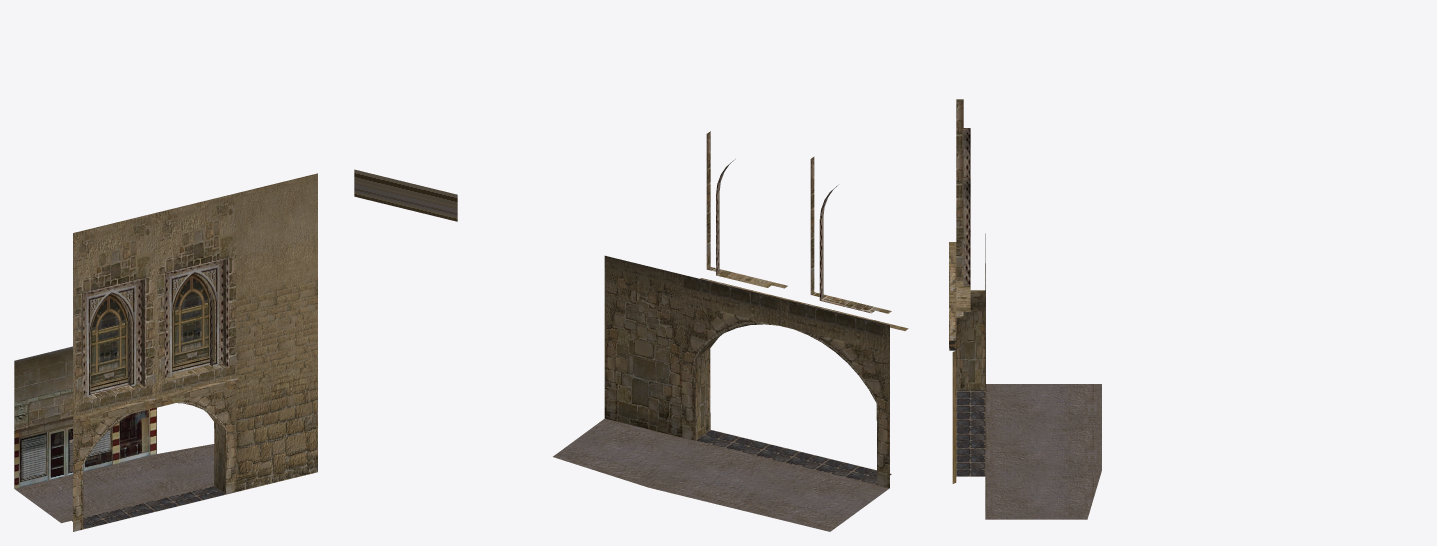
Rendered from M7Z1_CityWall3A4.glb.
3 views of the same model, side by side, from view 1: azimuth 30°, elevation 25°; view 2: azimuth 150°, elevation 25°; view 3: azimuth 270°, elevation 25° (orthographic). The views are drawn at different scales.
Parts seen in each view (by area): view 1: M7Z1_CITYWALL3A4; view 2: M7Z1_CITYWALL3A4; view 3: M7Z1_CITYWALL3A4.
Part boxes in pixels (x1,y1,x2,y2): M7Z1_CITYWALL3A4: (14,173,317,531); M7Z1_CITYWALL3A4: (354,131,908,531); M7Z1_CITYWALL3A4: (949,99,1101,519).
Size of the model in its own units: 12 by 15 by 16.66.
Materials: 11 (11 with a texture image).
